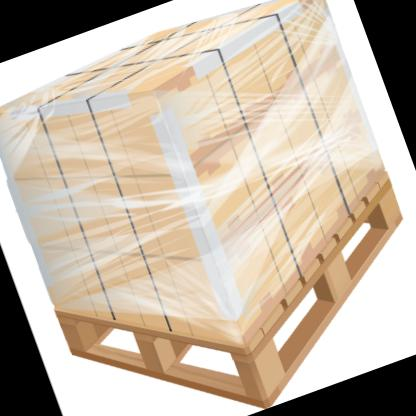BoxFace: (55, 168, 405, 407)
